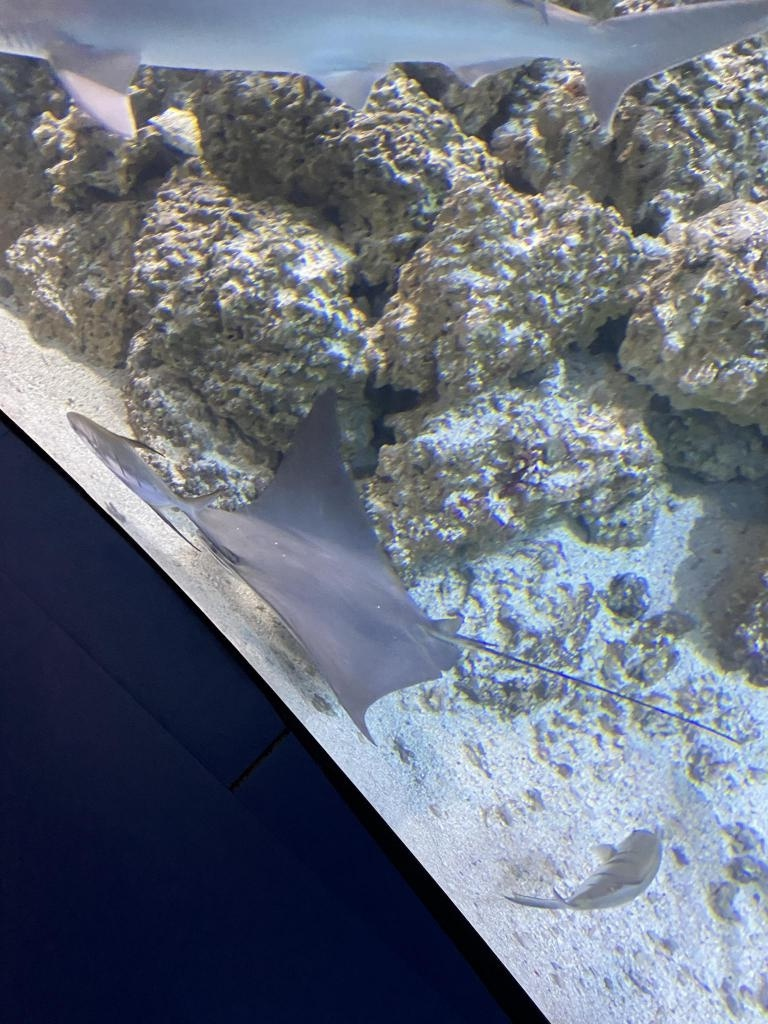fish: (65, 410, 217, 532), (513, 828, 661, 908)
shark: (0, 0, 767, 143)
stingray: (191, 380, 465, 744)
